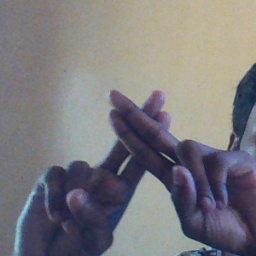F: (74, 77, 214, 218)
